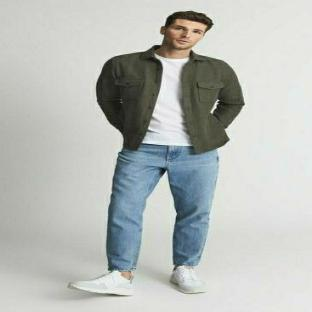Human: (71, 11, 244, 293)
